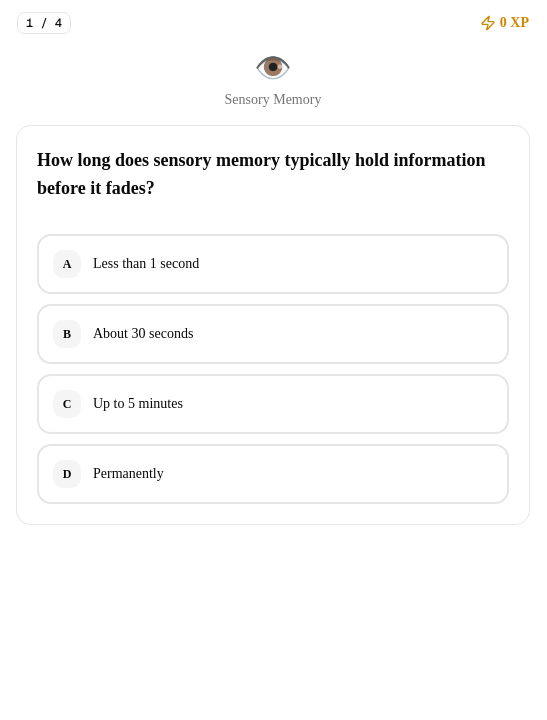
QuizView Component › shows panic button after 2 wrong attempts
This screenshot has width=547, height=720.
First wrong
What coordinates should you click on to do the following:
click the text "About 30 seconds"
I would click on:
 (143, 334)
Its box is [93,326,193,341].
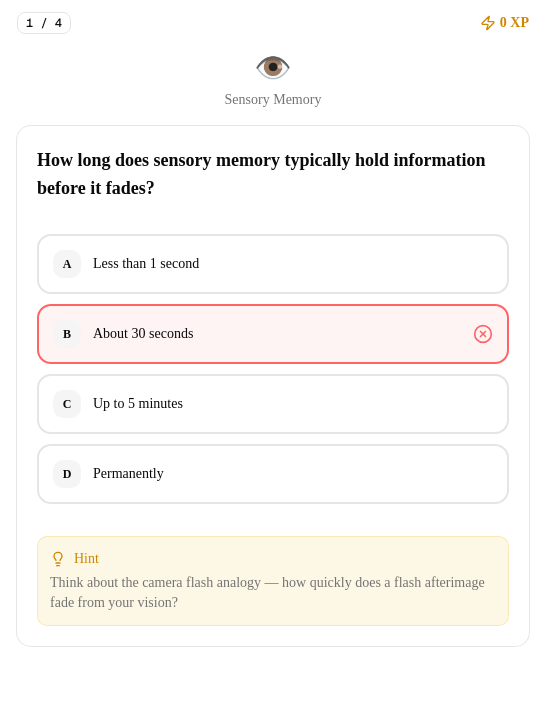
Expected: the text "Explain It Simpler" is not shown
Second wrong
What coordinates should you click on to do the following:
click the text "Up to 5 minutes"
I would click on:
 (138, 404)
Its box is [93,396,183,411].
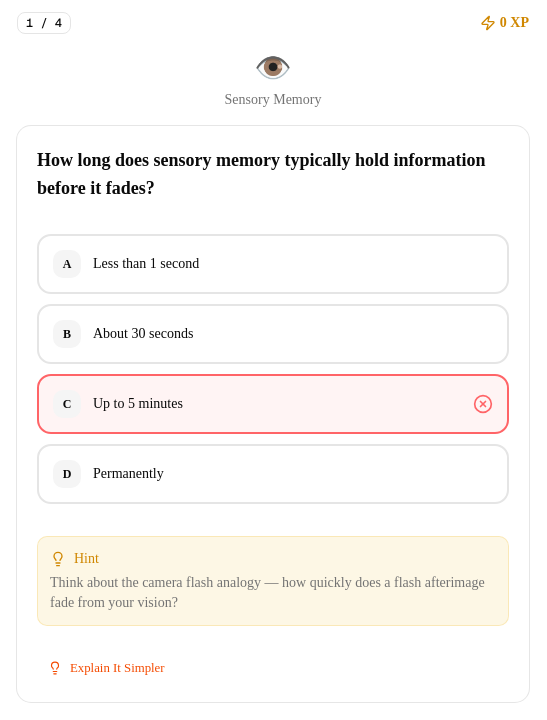
Expected: the button "Explain It Simpler" is shown, [37,654,176,682]
